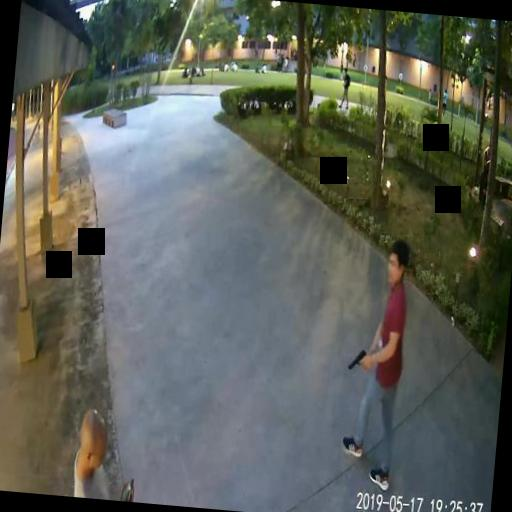Handgun: (348, 346, 368, 372)
